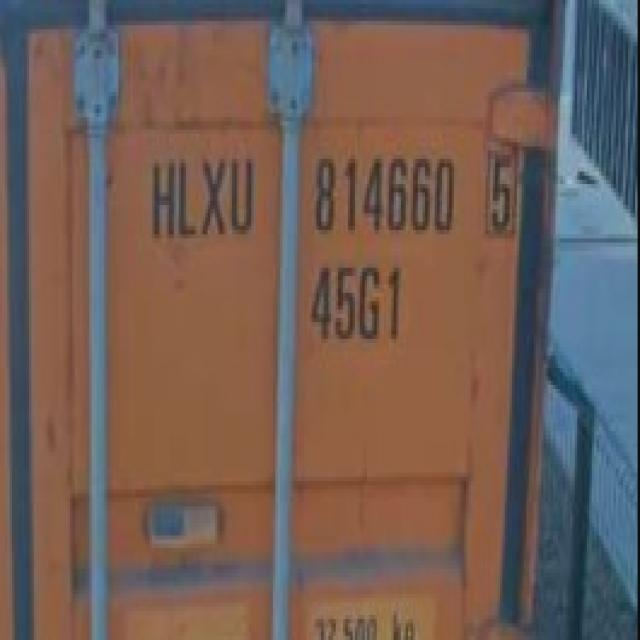dv: (480, 142, 516, 242)
owner: (144, 148, 258, 245)
serial: (304, 148, 459, 246)
size: (304, 262, 404, 348)
